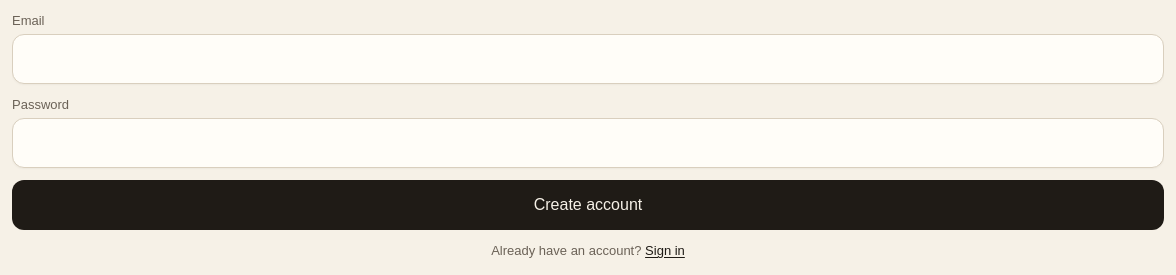
Test: a successful signUp with no session shows the check-your-email state instead of redirecting
Type "person@example.com" into the field labelled "Email".
click(588, 59); type("person@example.com")  # box [12,34,1164,84]
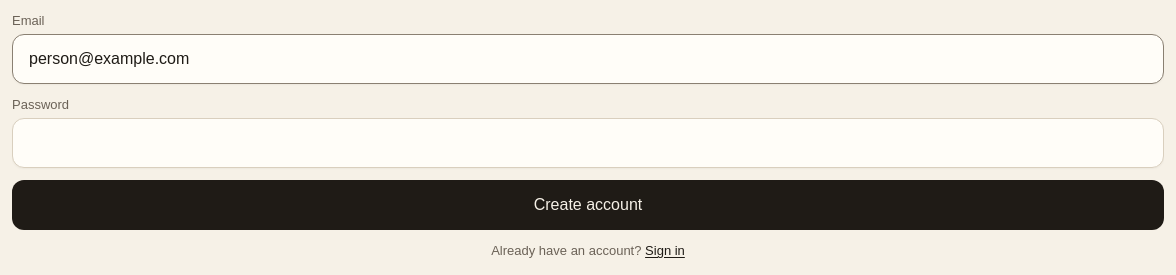
Type "a-real-password" into the password field labelled "Password".
click(588, 143); type("a-real-password")  # box [12,118,1164,168]
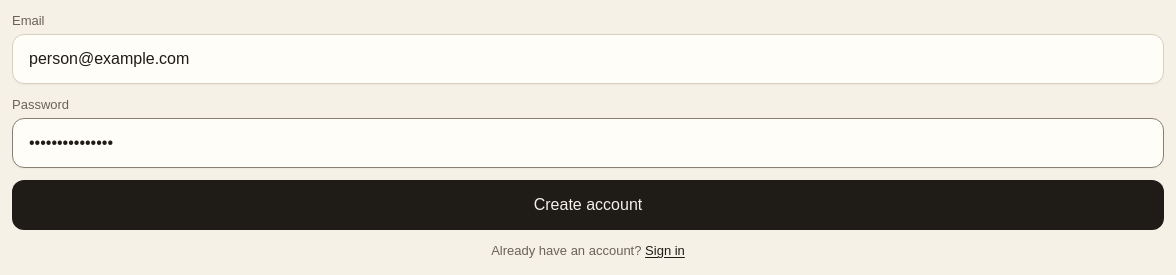
Click the button "Create account".
click(588, 205)  # box [12,180,1164,230]
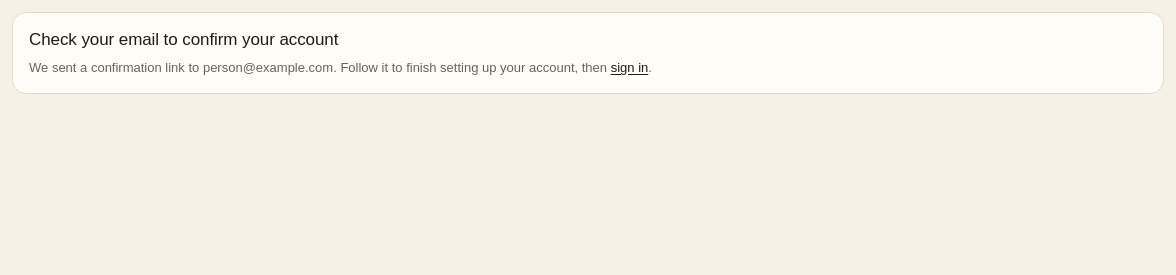
Expected: the message shows "Check your email to confirm your account", [29,30,338,49]
